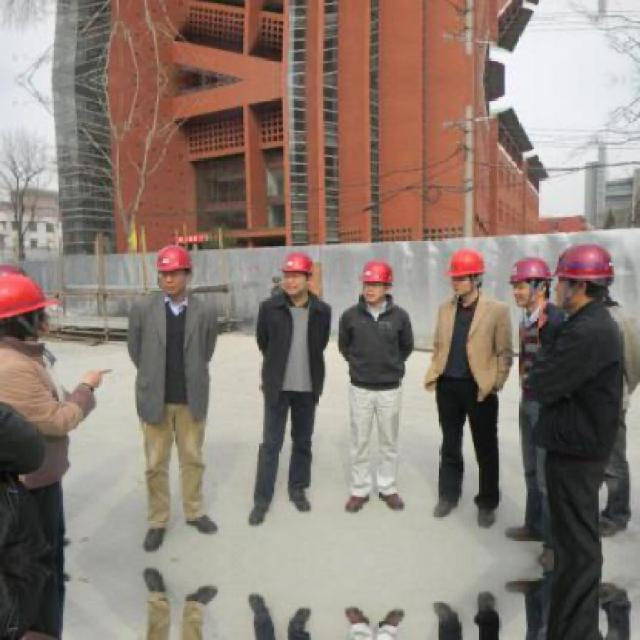helmet: (1, 271, 62, 354), (555, 243, 614, 309), (154, 240, 197, 297), (446, 243, 489, 299), (509, 255, 551, 308), (358, 257, 397, 306), (278, 251, 317, 298)
